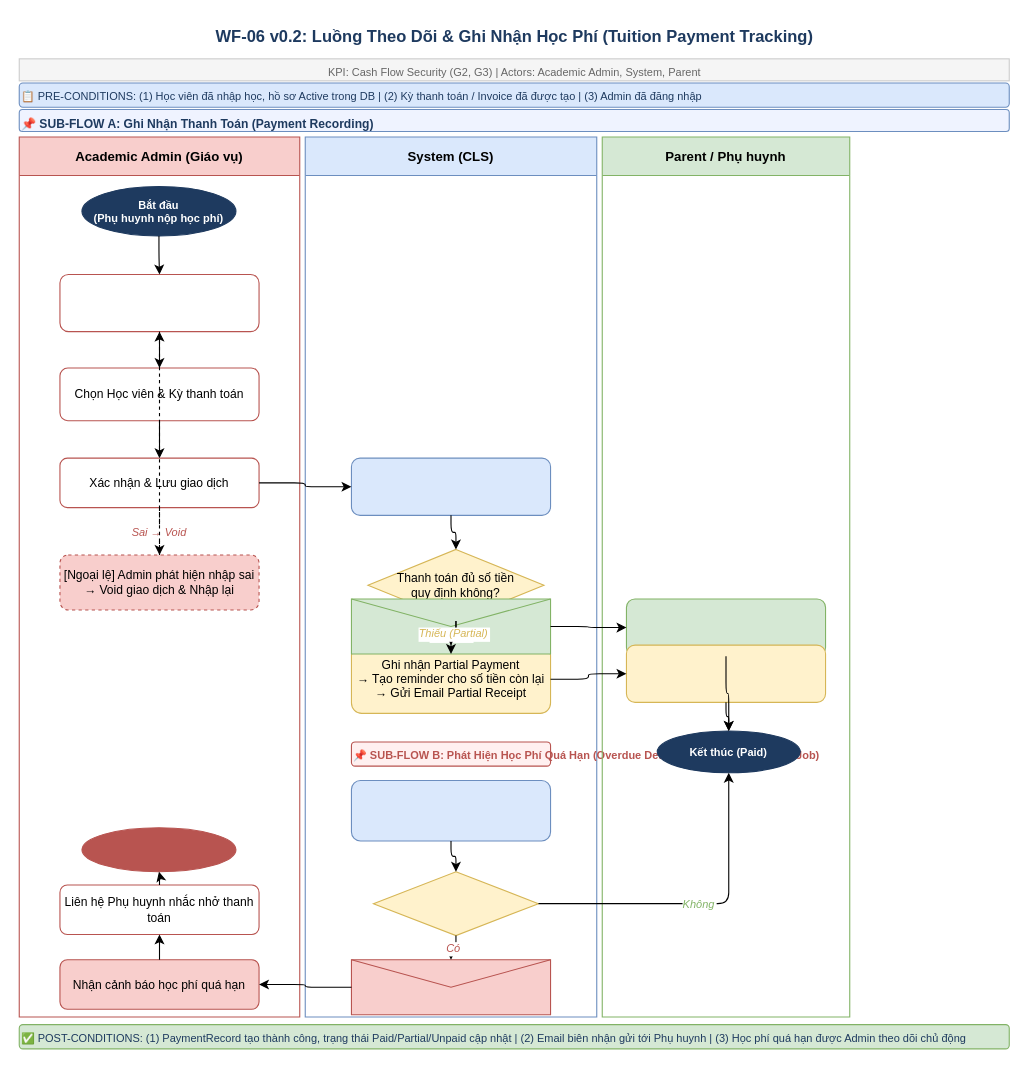
Some shapes in this 1029 by 1068 pixel diagram are drawn without their labels. The shapes that lost their labels are listed below. From the top down, each one's centre as x and y in pixels, then its label:
At [159,302]: "Ghi nhận thanh toán: Số tiền, Ngày, Phương thức".
At [450,486]: "Cập nhật trạng thái thanh toán trong DB (Paid / Partial / Unpaid)".
At [450,626]: "📧 Gửi Email biên nhận học phí (Full Payment – tự động)".
At [725,627]: "Nhận Email biên nhận học phí chính thức từ Trung tâm".
At [725,673]: "Nhận Email Partial Payment Receipt + Thông báo số tiền còn nợ".
At [450,810]: "⏰ Daily Job: Quét học phí chưa thanh toán quá ngày đến hạn".
At [158,849]: "Kết thúc (Theo dõi quá hạn)".
At [455,903]: "Có học phí quá hạn?".
At [450,987]: "⚠ Gửi cảnh báo quá hạn tới Admin (Email + Dashboard)".
